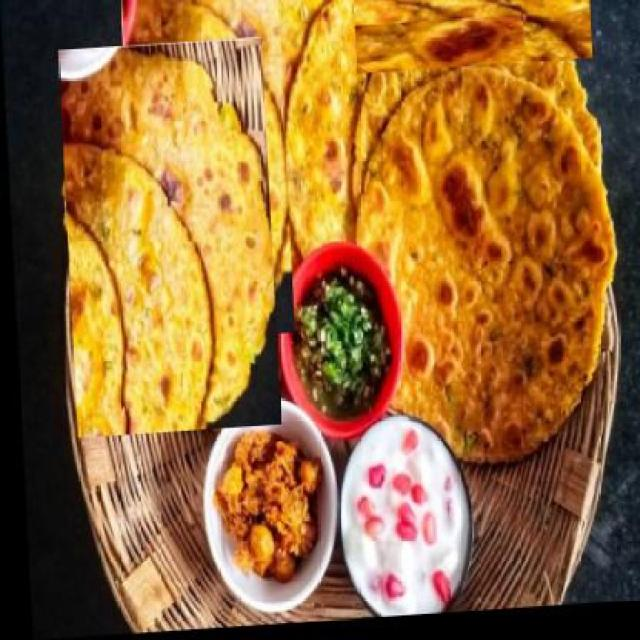chapati: (347, 66, 622, 477), (55, 40, 278, 440), (251, 0, 508, 258), (344, 0, 602, 251), (120, 0, 292, 346), (209, 0, 366, 289)
